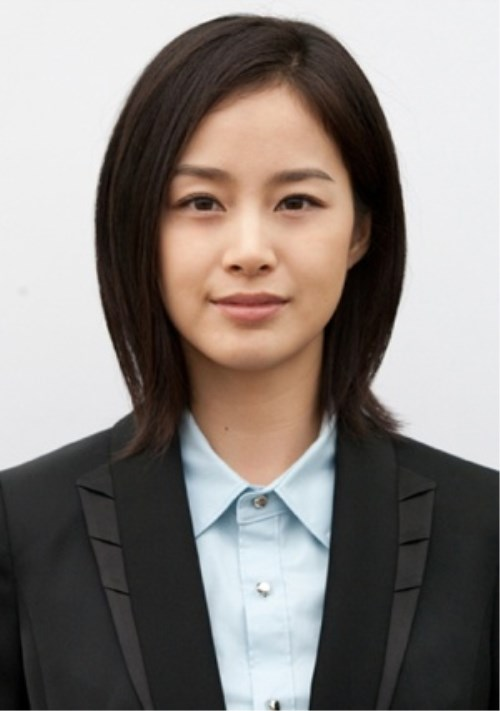unmask: (161, 90, 351, 363)
